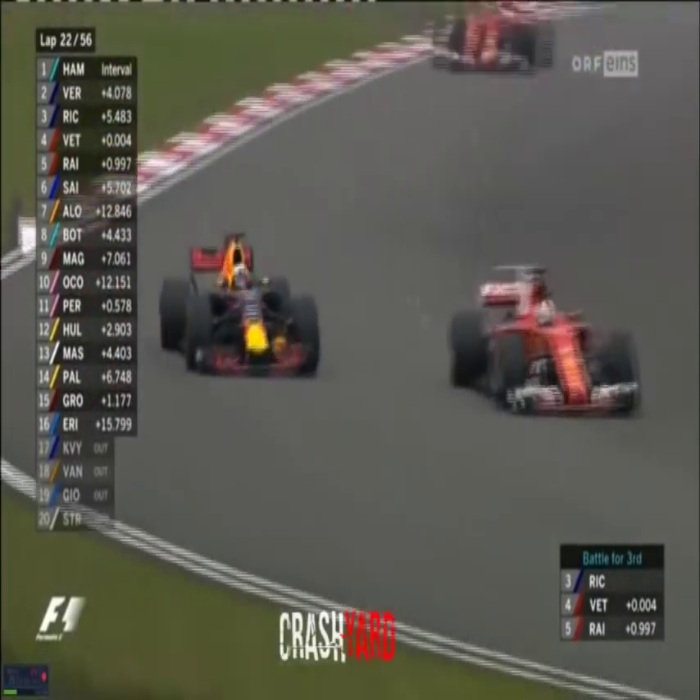f1_car: (439, 254, 650, 430), (151, 236, 331, 377)
